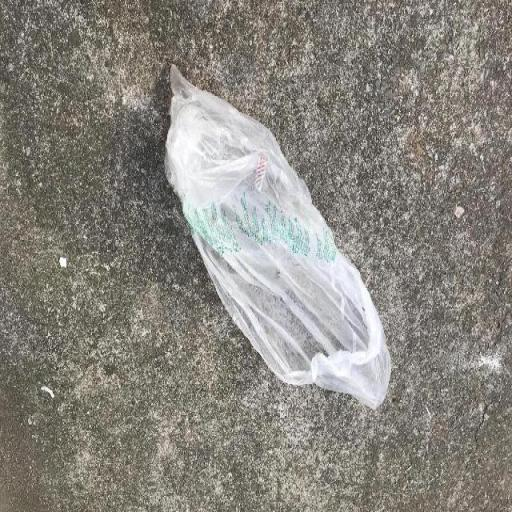plastic-bag: (162, 60, 396, 415)
